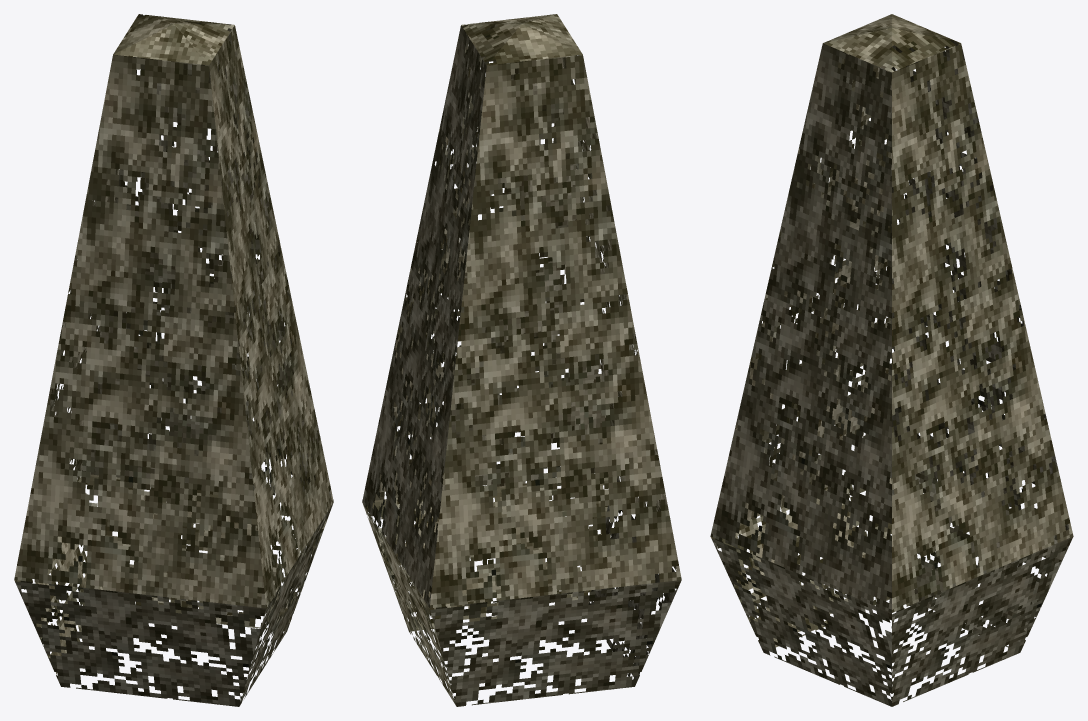
The model's file is bush_end_tall_dead..glb.
The picture shows the model from 3 angles, left to right: view 1: azimuth 30°, elevation 25°; view 2: azimuth 150°, elevation 25°; view 3: azimuth 270°, elevation 25°; orthographic projection.
Visible parts, largest first — view 1: bush_end_tall_dead.; view 2: bush_end_tall_dead.; view 3: bush_end_tall_dead..
Boxes of the visible parts, <box> form: bush_end_tall_dead.: <box>14,14,333,706</box>; bush_end_tall_dead.: <box>362,14,681,706</box>; bush_end_tall_dead.: <box>710,14,1073,706</box>.
Size of the model in its own units: 1.39 by 2.63 by 1.39.
1 material, 1 textured.
